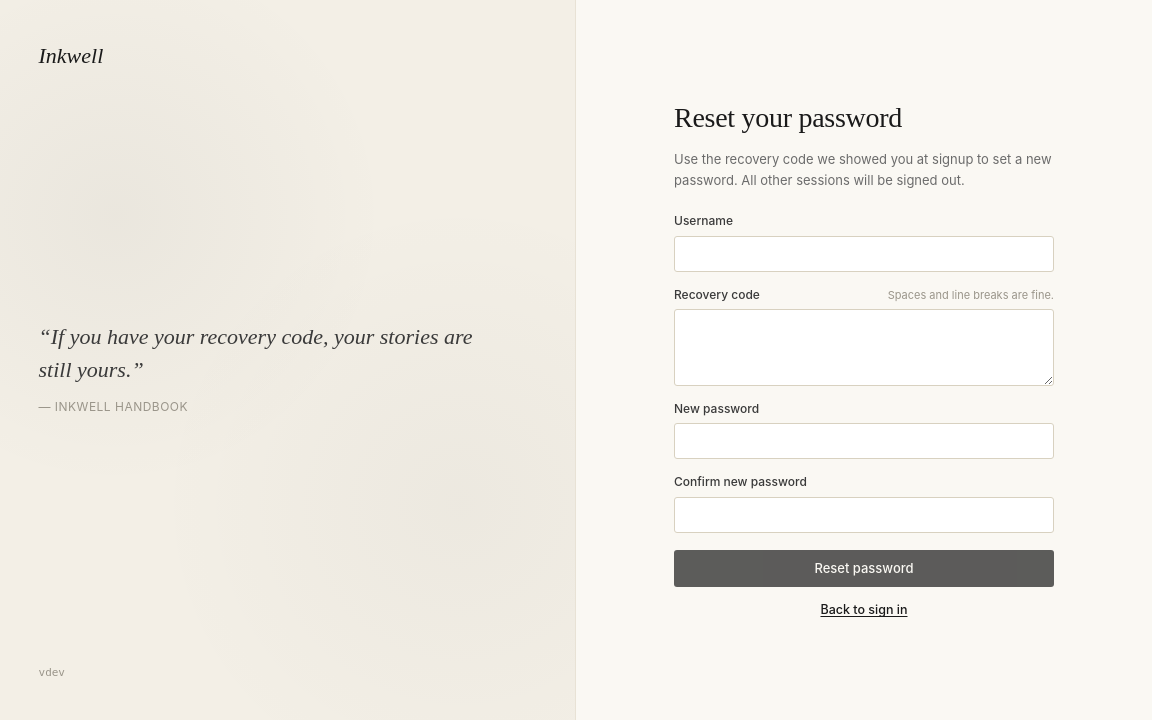
Scenario: reset-password page (F60) › on 401, surfaces a generic "Invalid username, recovery code, or both" message (does NOT leak whether the username exists)
Expected: the heading "Reset your password" is shown, [674,102,902,133]
In the field labelled "Username": (864, 254) [674,236,1054,272], type "alice"
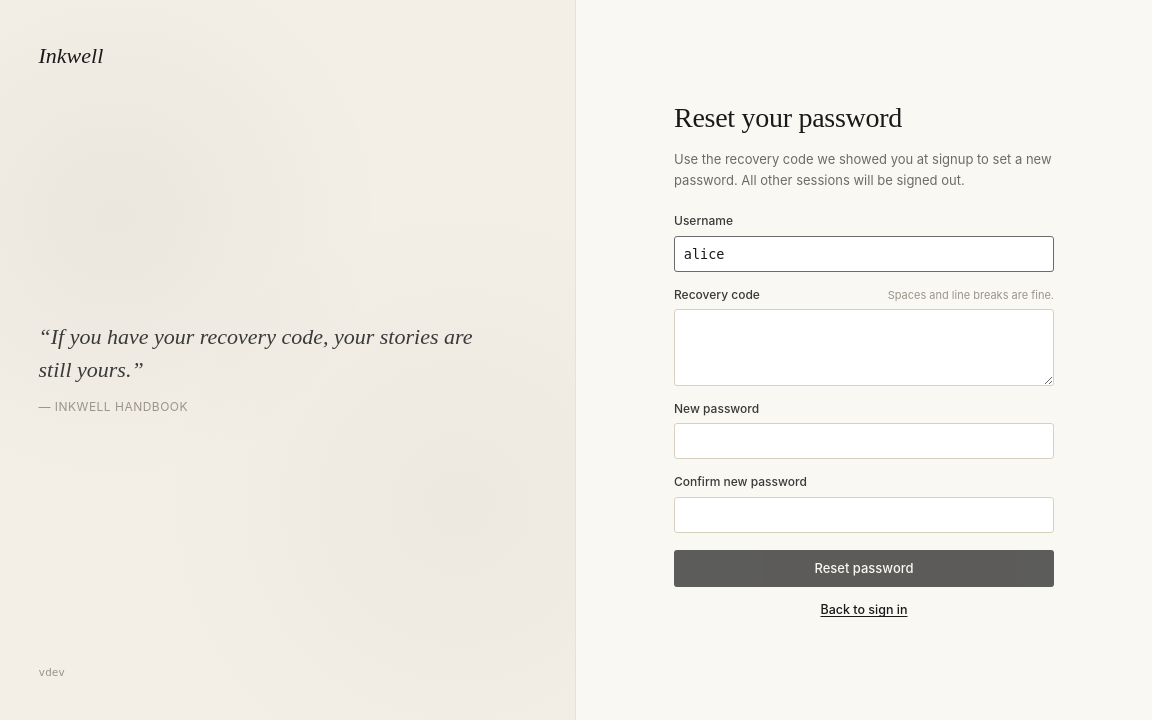
In the text box labelled "Recovery code Spaces and line breaks are fine.": (864, 347) [674,309,1054,386], type "horse-battery-staple"
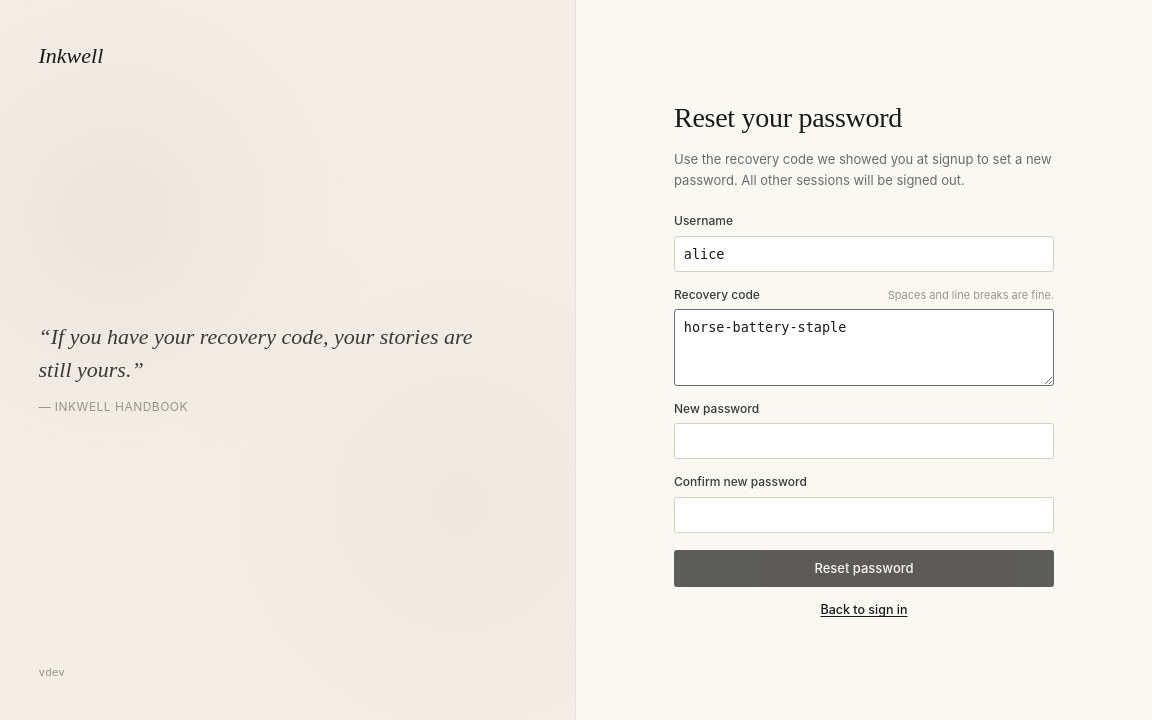
In the password field labelled "New password": (864, 441) [674,423,1054,459], type "hunter2hunter2"
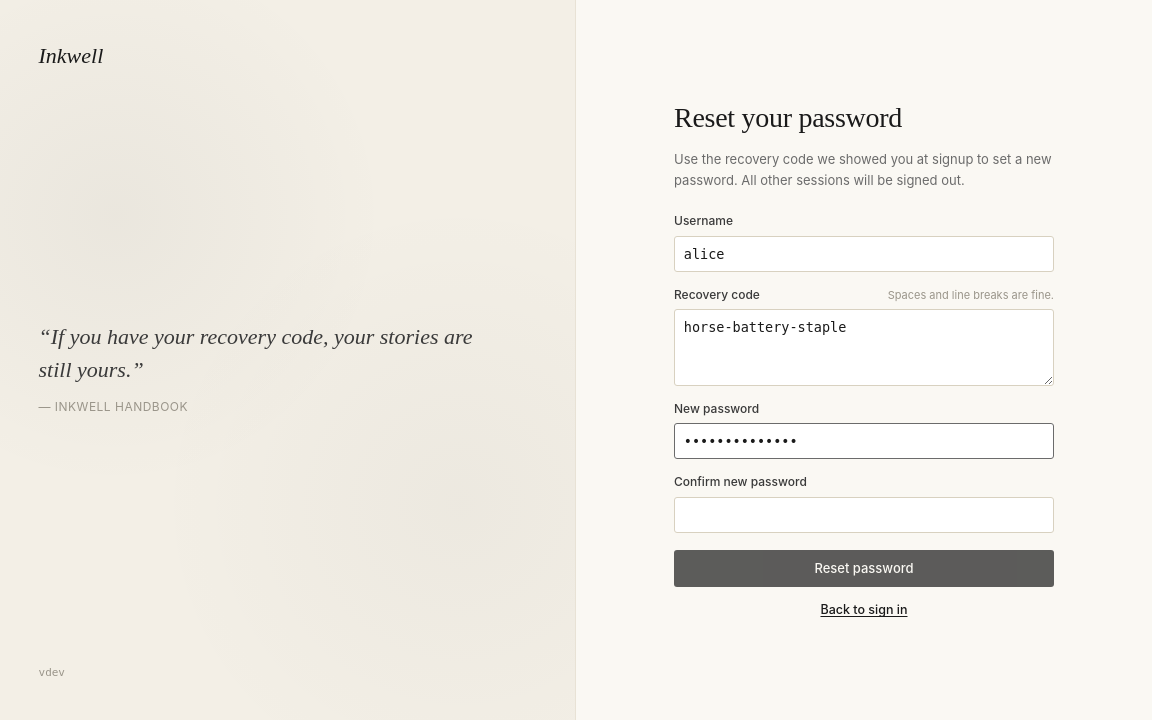
In the password field labelled "Confirm new password": (864, 515) [674,496,1054,533], type "hunter2hunter2"
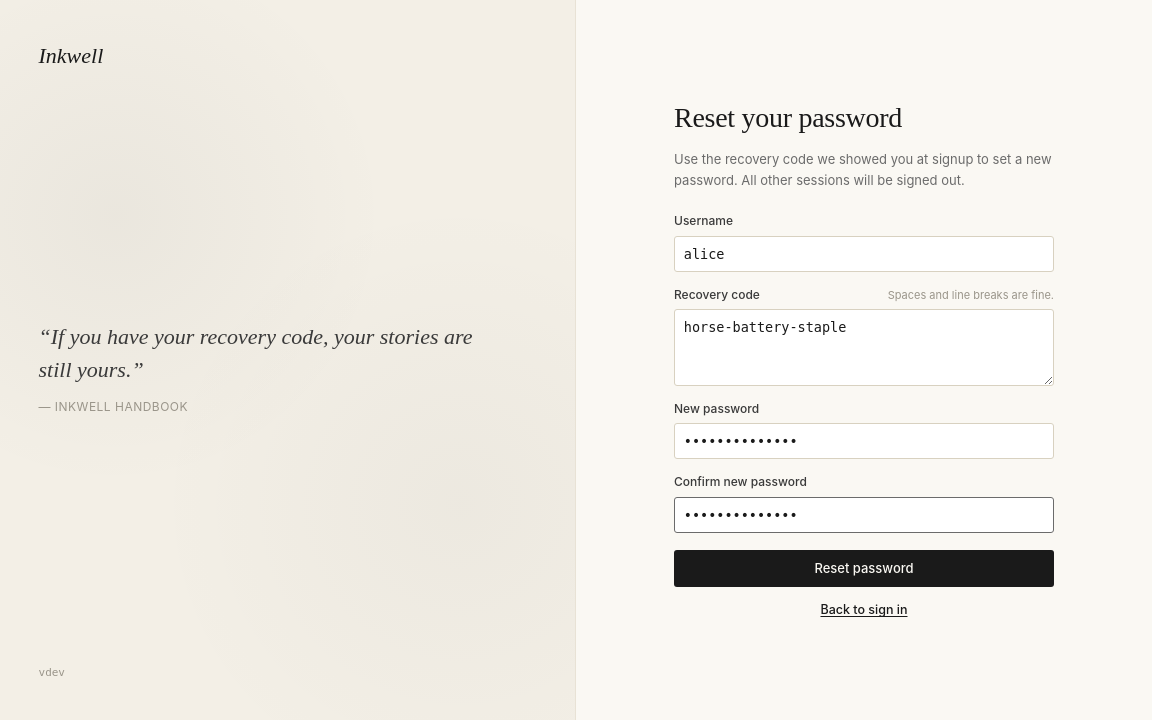
Click the button "Reset password": (864, 569) [674,550,1054,587]
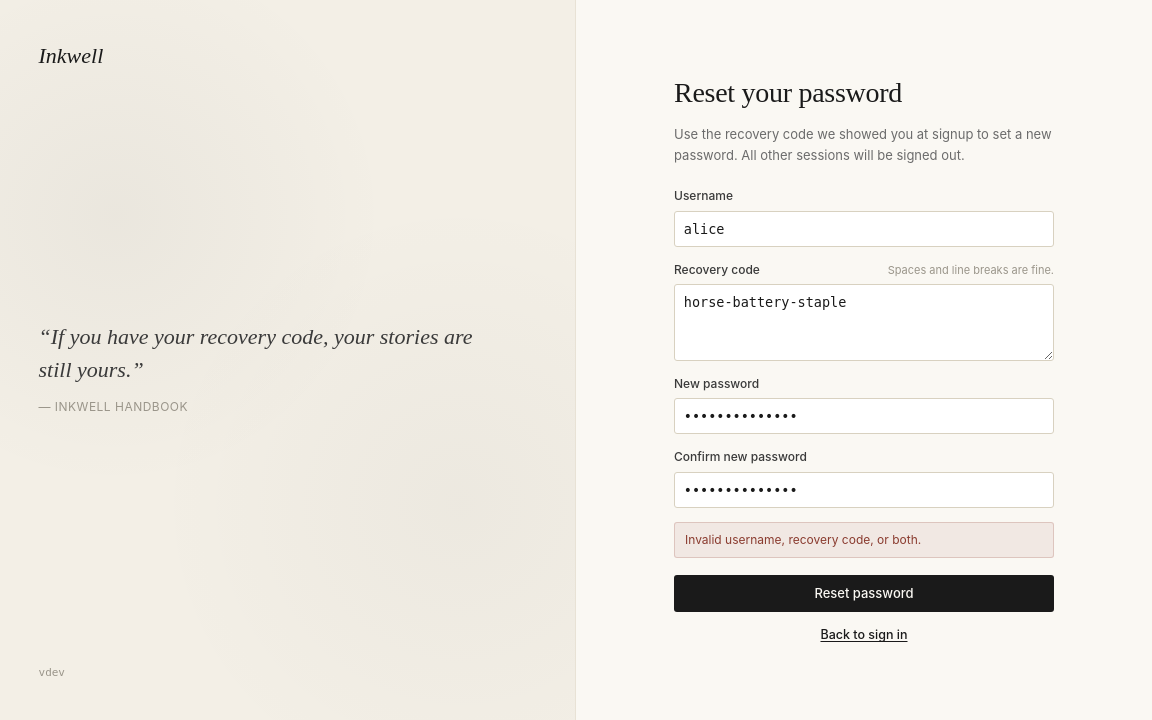
Result: the message shows "Invalid username, recovery code, or both" at [685,532,921,547]
